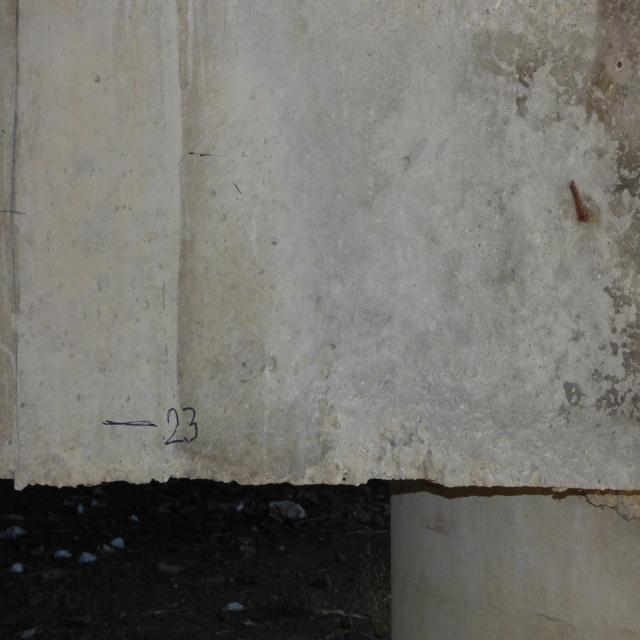Rebar: (566, 180, 602, 232), (528, 611, 575, 635)
